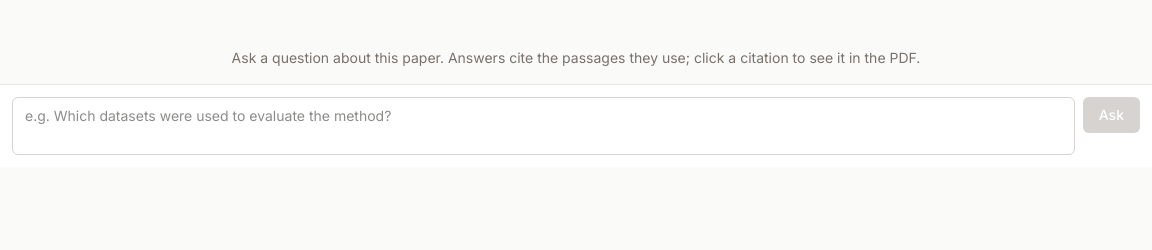
Test: Chat › shows progress and sub-questions while working, and blocks a second question
The image size is (1152, 250).
Type "Which datasets?" into the text box named "question" at x=543, y=126, box [12, 97, 1075, 155]
Then press Enter
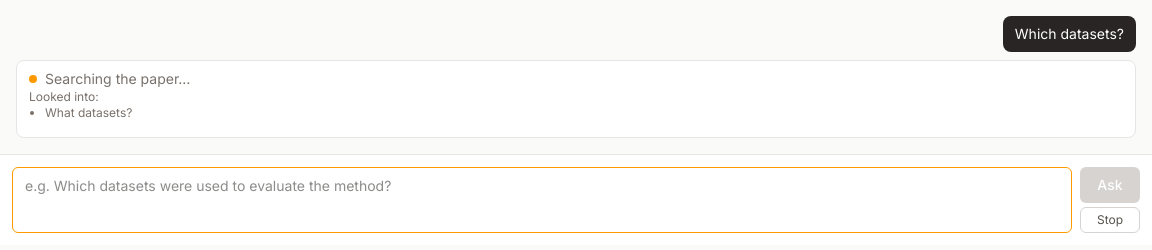
Expected: the button "Ask" is disabled, [1080, 167, 1140, 203]
Expected: the text "Searching the paper…" is shown, [29, 70, 190, 87]
Expected: the list item "What datasets?" is shown, [45, 105, 132, 120]
